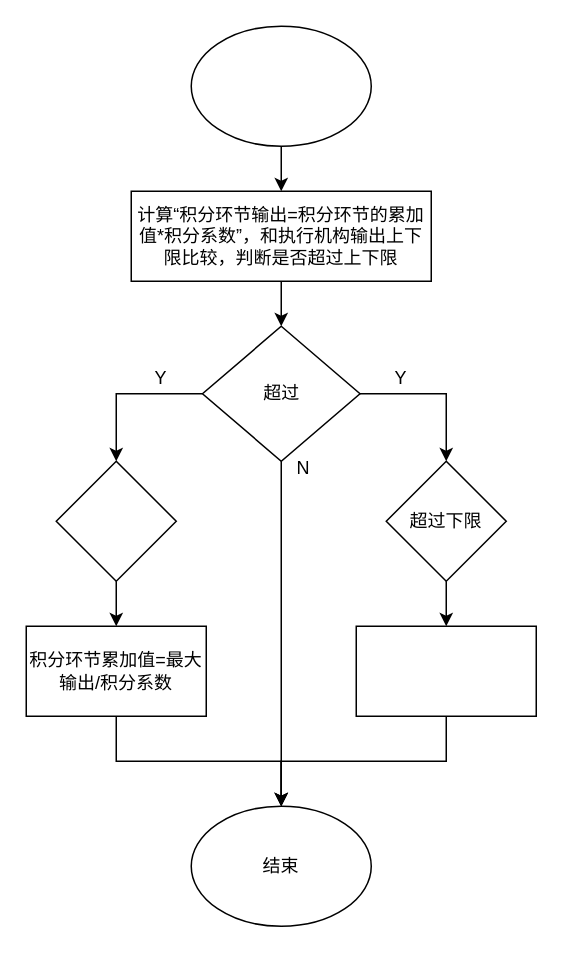
Some shapes in this 563 by 953 pixel diagram are drawn without their labels. Each missing label, with the centre of its shape:
开始: (x=280, y=85)
积分环节累加值=最小输出/积分系数: (x=445, y=670)
超过上限: (x=115, y=520)
